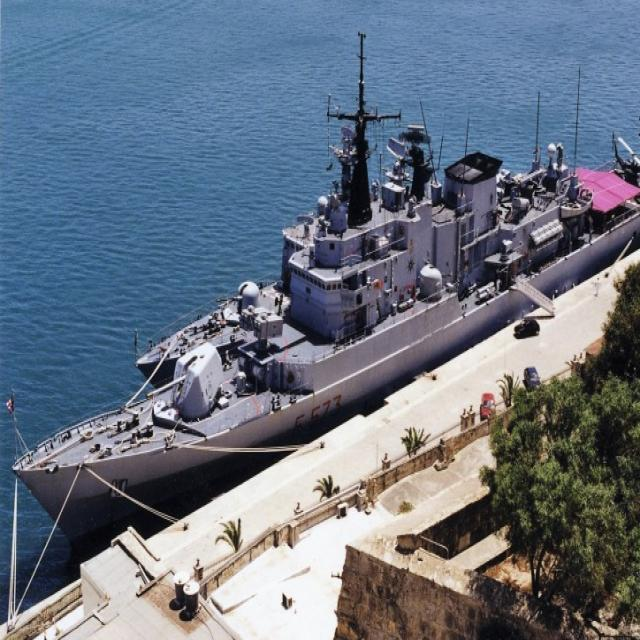Fragata: (10, 43, 640, 562)
